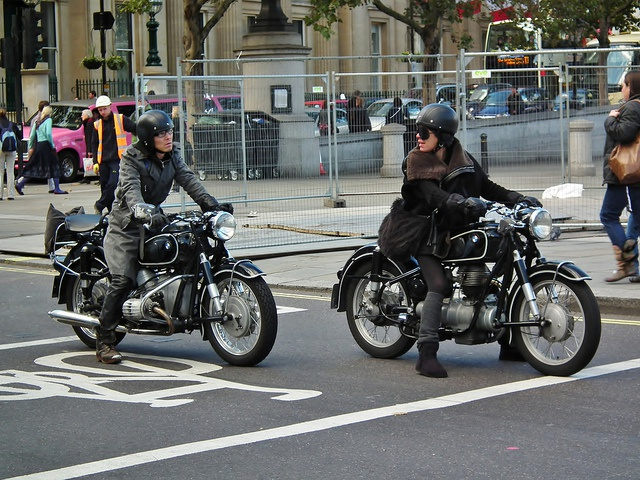non-vehicle: (323, 188, 610, 380), (50, 209, 281, 364)
